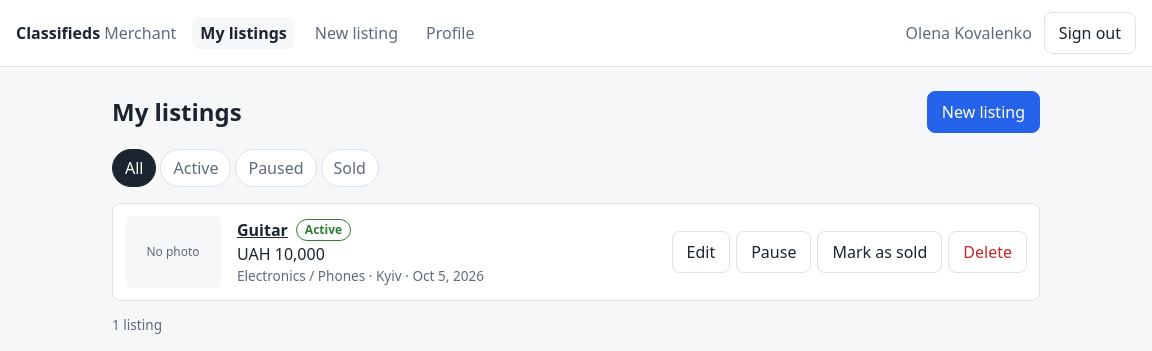
my listings page › asks before marking as sold
Expected: the list item "Guitar" is shown, [112, 203, 1040, 301]
Step 1. Click the button "Mark as sold" → {"x": 880, "y": 252}, box [817, 231, 942, 273]
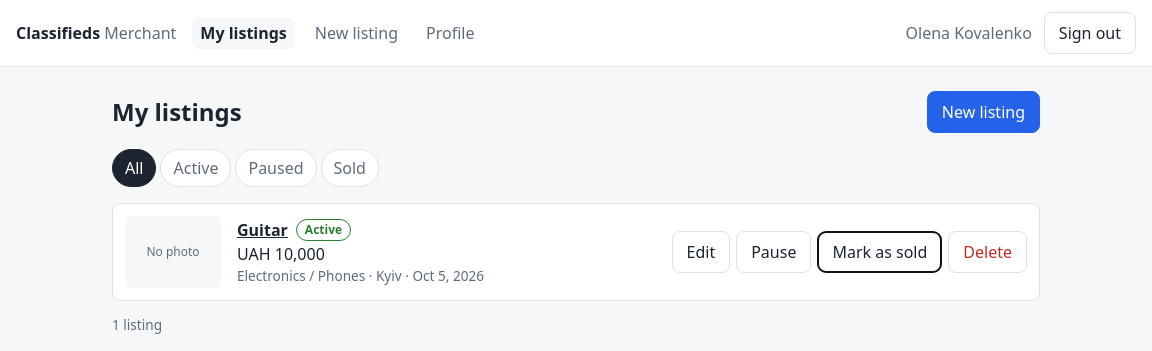
Step 2. Click the button "Mark as sold" → {"x": 880, "y": 252}, box [817, 231, 942, 273]
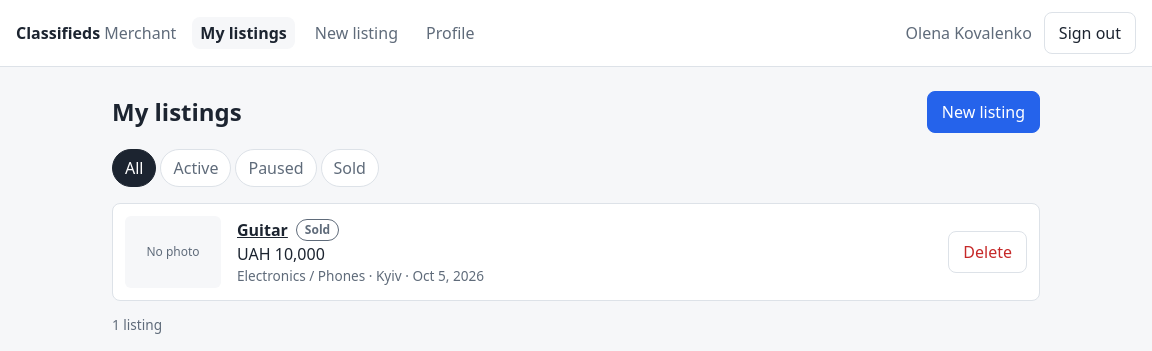
Expected: the buttons read "Delete", in this order, [948, 231, 1027, 273]
Result: the text "Sold" is shown at [296, 219, 339, 241]
